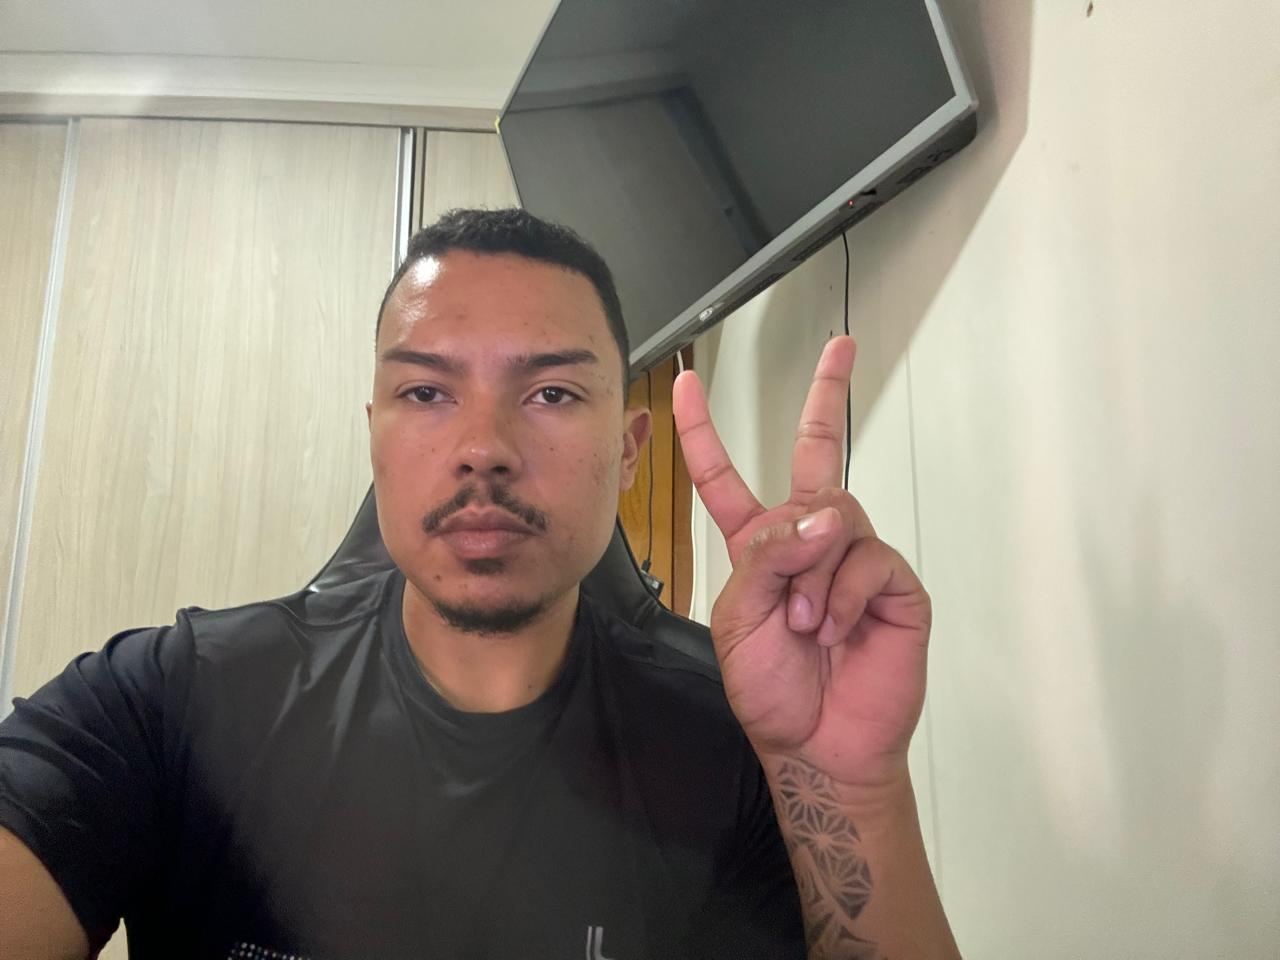v: (654, 328, 937, 803)
